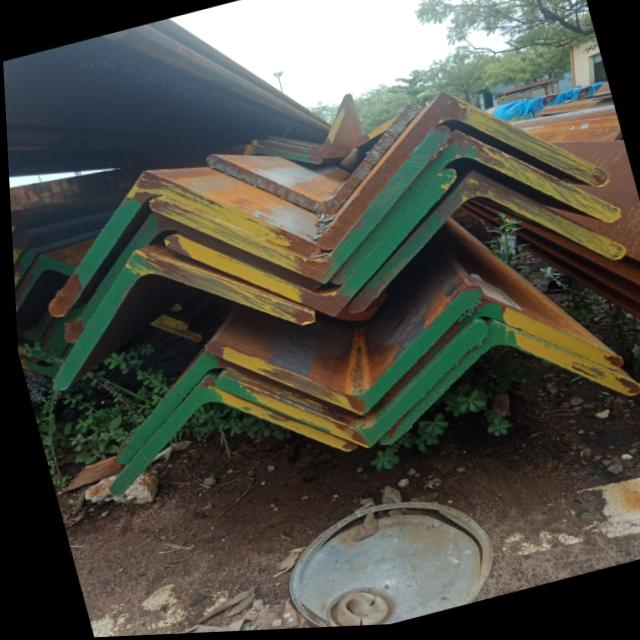metal-angles: (146, 129, 449, 287), (315, 96, 607, 253), (326, 133, 619, 287), (160, 172, 454, 320), (342, 174, 623, 316), (43, 172, 318, 316), (47, 249, 313, 391), (200, 289, 479, 418), (211, 326, 486, 450), (61, 212, 318, 344), (374, 325, 639, 449), (359, 300, 619, 421), (101, 381, 353, 495), (111, 352, 355, 465), (203, 105, 421, 220), (249, 96, 350, 161), (12, 254, 74, 313)
